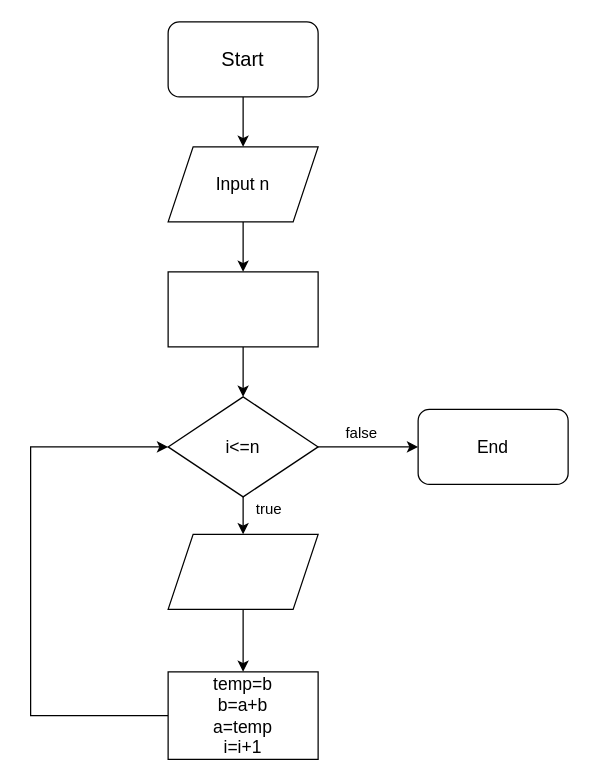
This 590x781 diagram has some shape labels left out. Here are the shapes that lost their labels. From the top down, the box of each, then its label:
(167, 271, 318, 347): a=0 b=1 i=1
(167, 533, 318, 609): print a
